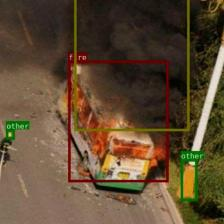fire: (68, 60, 169, 182)
smoke: (74, 0, 189, 130)
